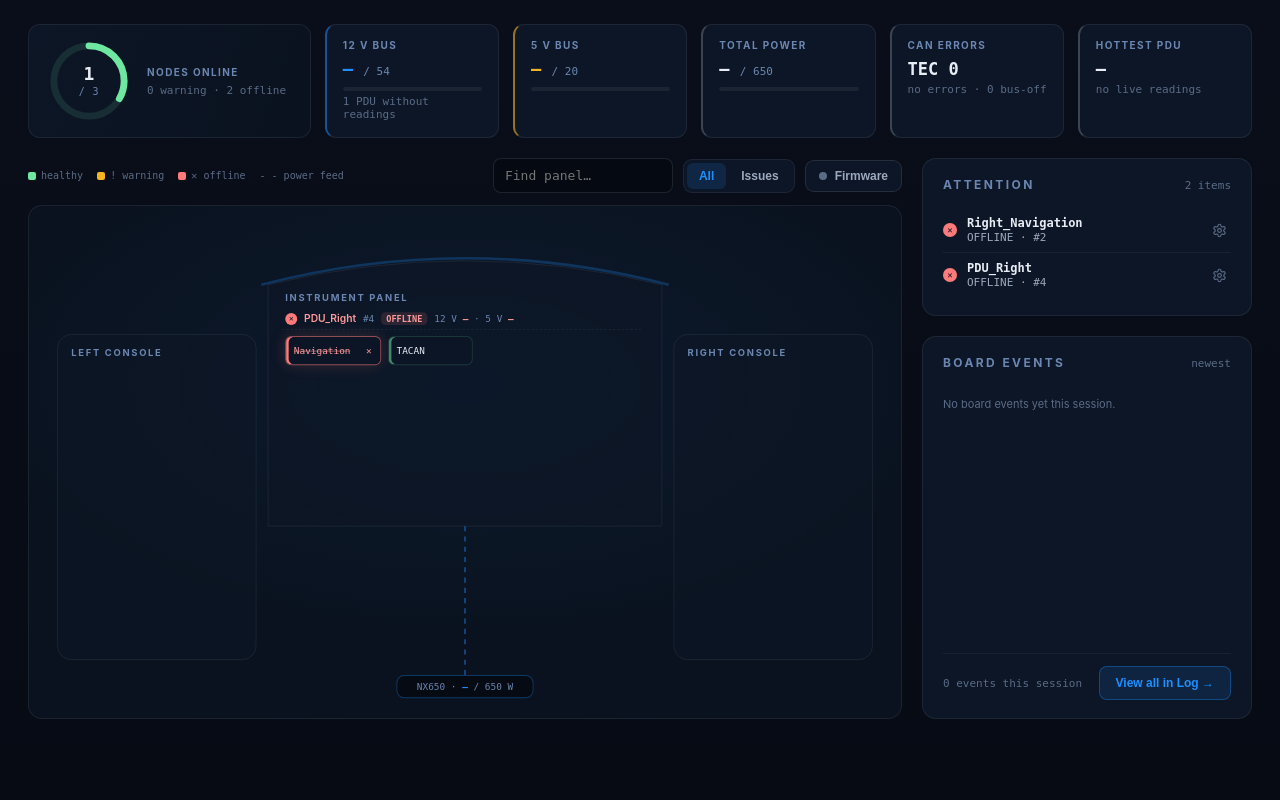
T8 Board panel footer: PDU (B73, B9, B10, X8) › the fed count includes the hidden board, as Forget unlinks it too (X7/X8, #131)
Click the button titled "PDU_Right — power zone details": (462, 320) [282,310,641,330]
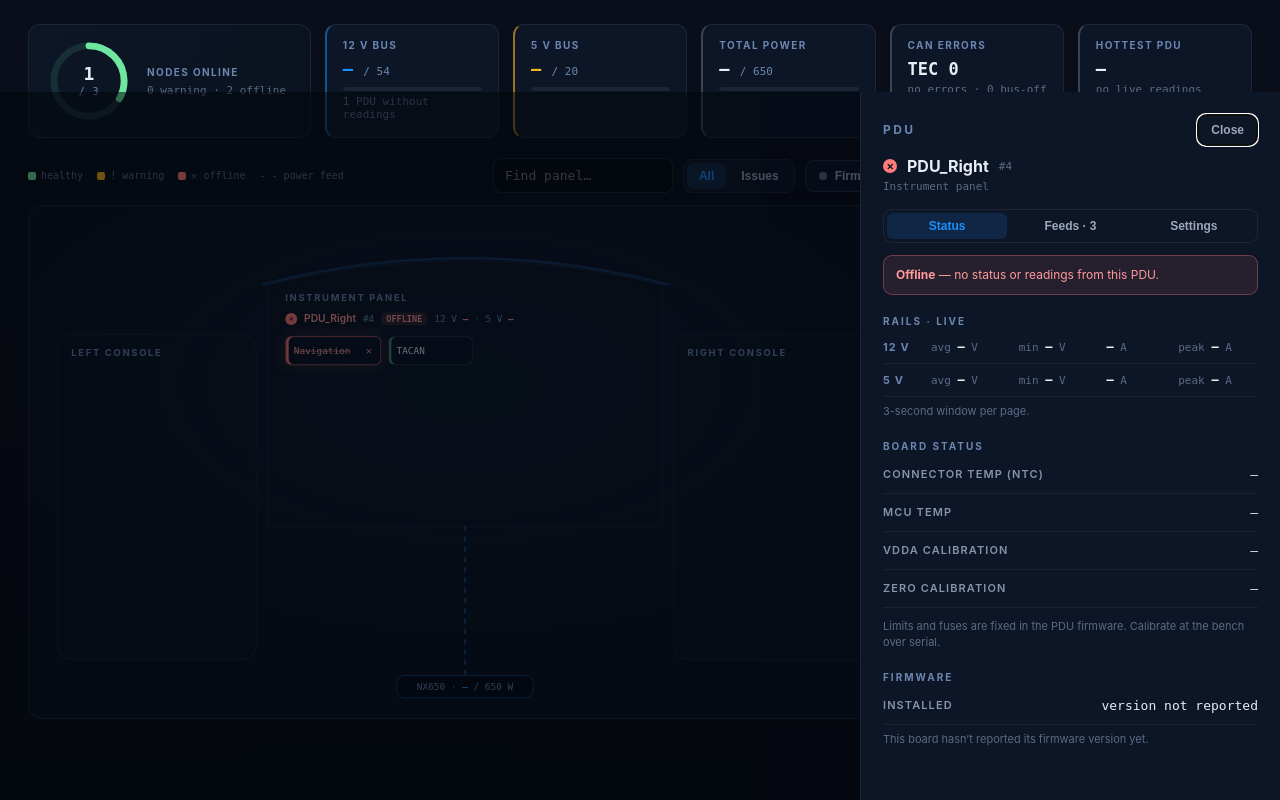
Click the tab "Settings": (1194, 226) [1134,213,1254,239]
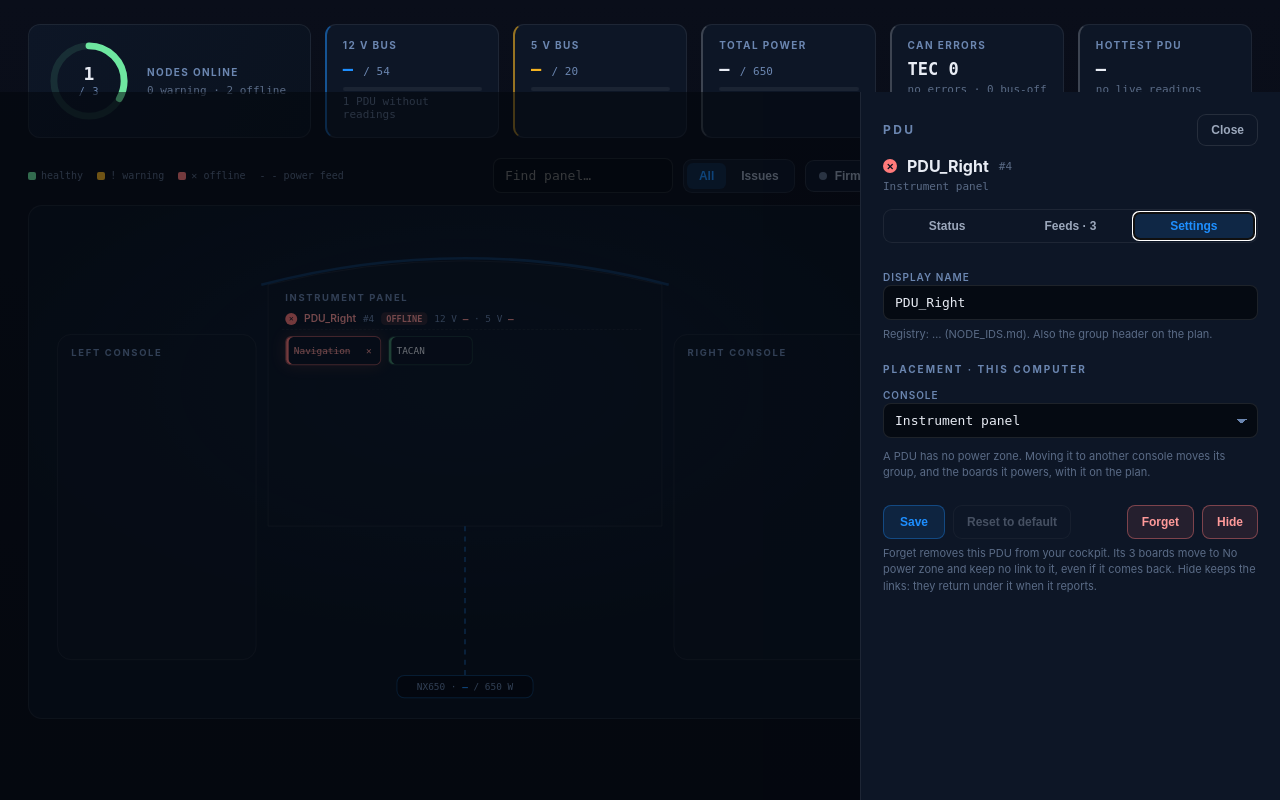
Check: the text "Forget removes this PDU" shows "Its 3 boards", box [883,546,1256,592]
Click the tab "Feeds · 3": (1070, 226) [1010,213,1131,239]
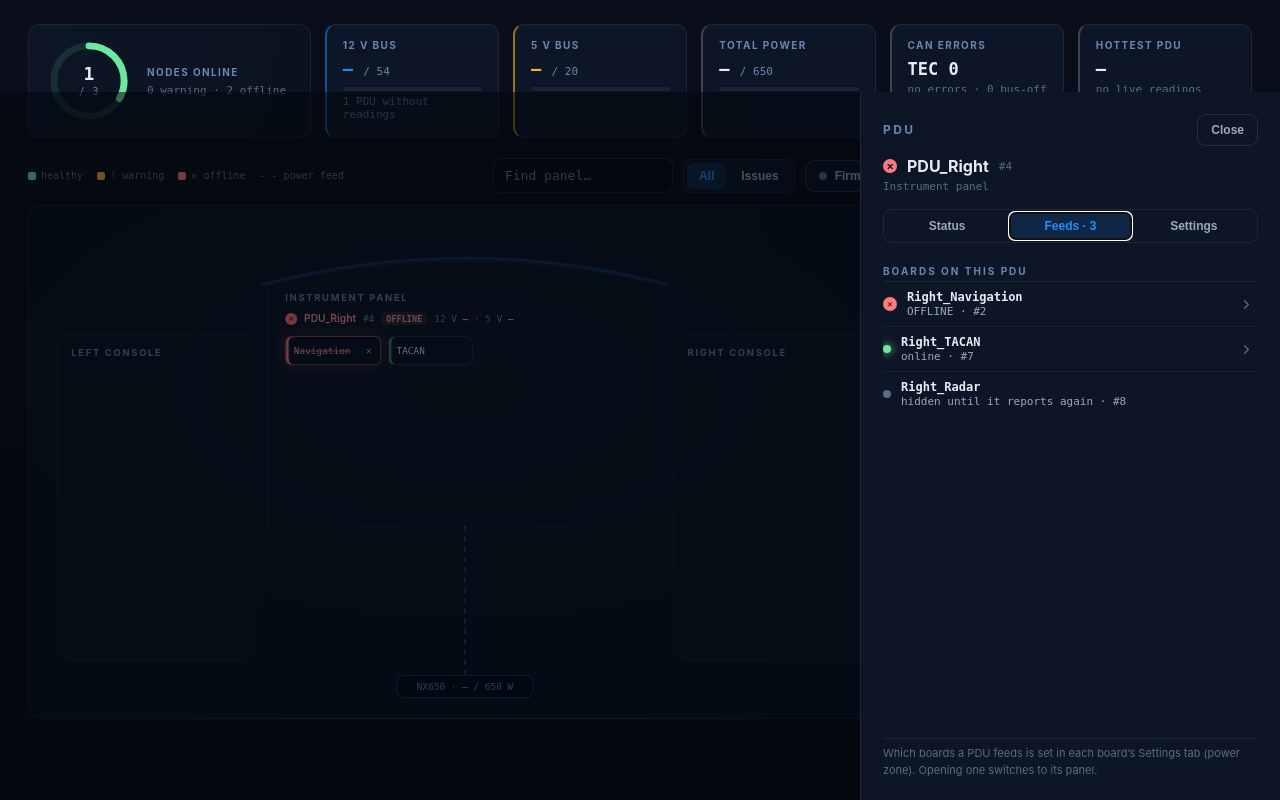
Check: the button named "Open Right_Navigation" is shown, box [1235,292,1258,316]
Check: the button named "Open Right_TACAN" is shown, box [1235,338,1258,360]
Check: the list item "Right_Radar" reads "Right_Radarhidden until it reports again · #8", box [883,380,1126,408]
